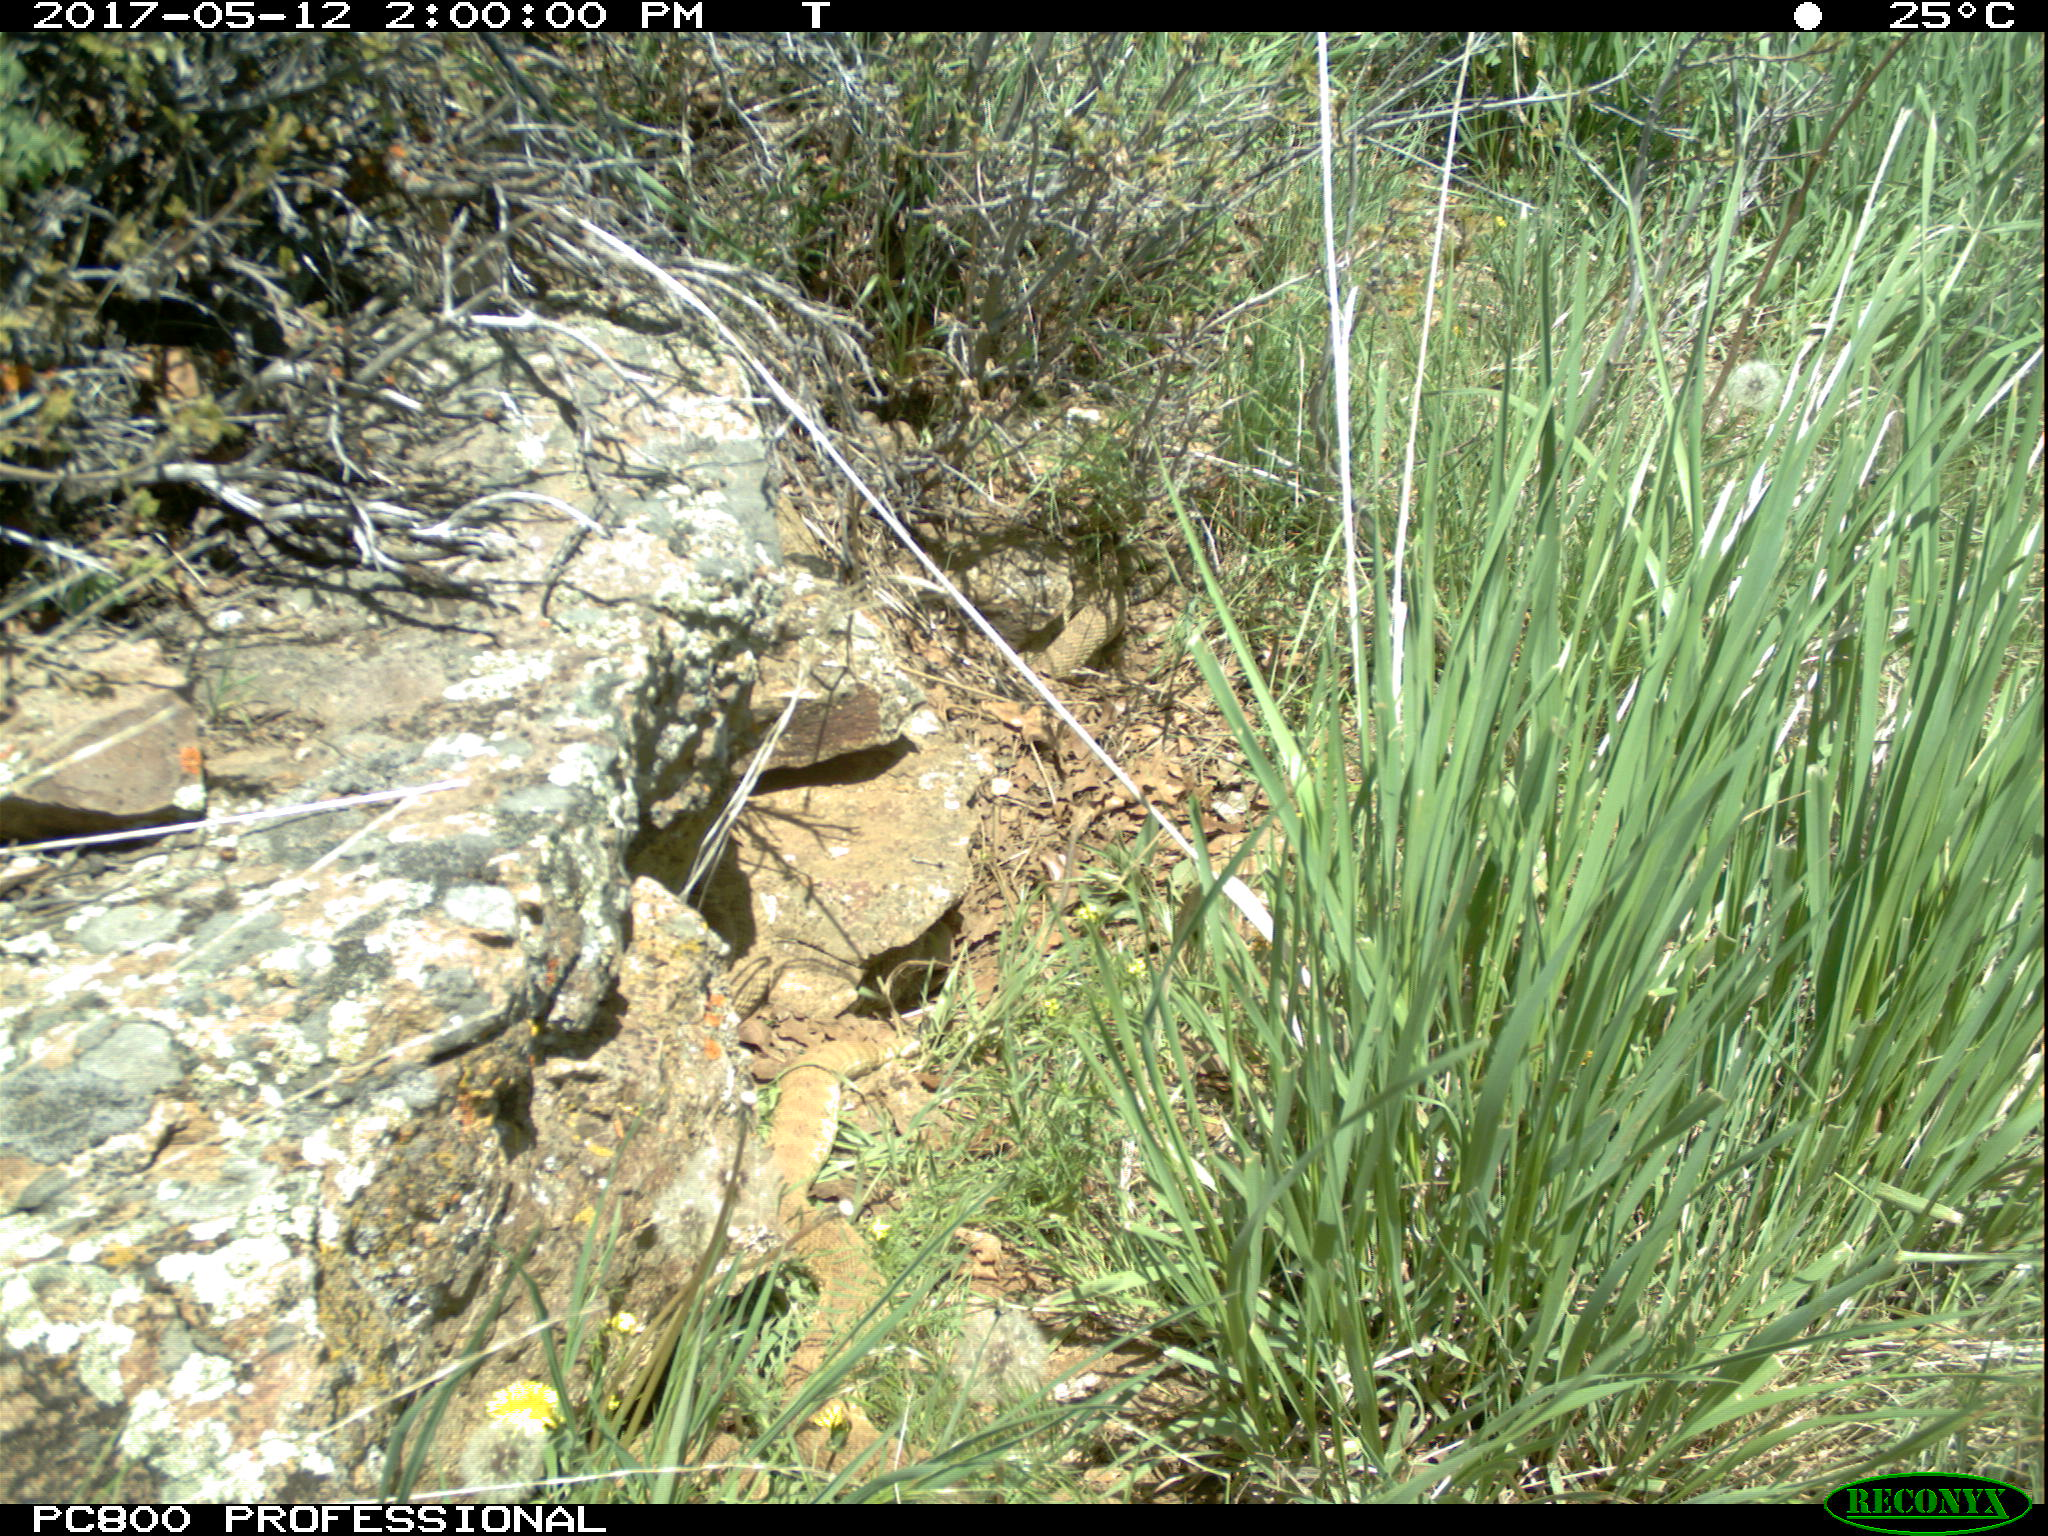snake: (764, 1026, 914, 1488), (1034, 582, 1130, 678)
